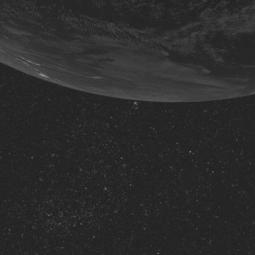debris: (174, 162, 207, 194)
